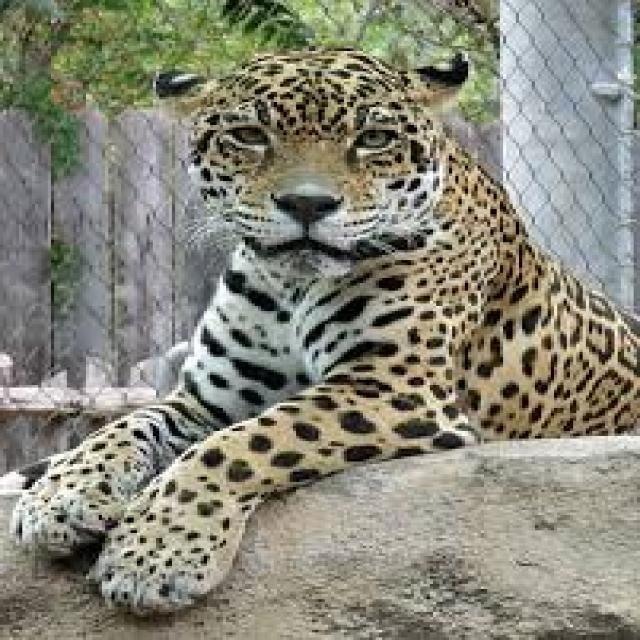Jaguar: (44, 48, 640, 581)
